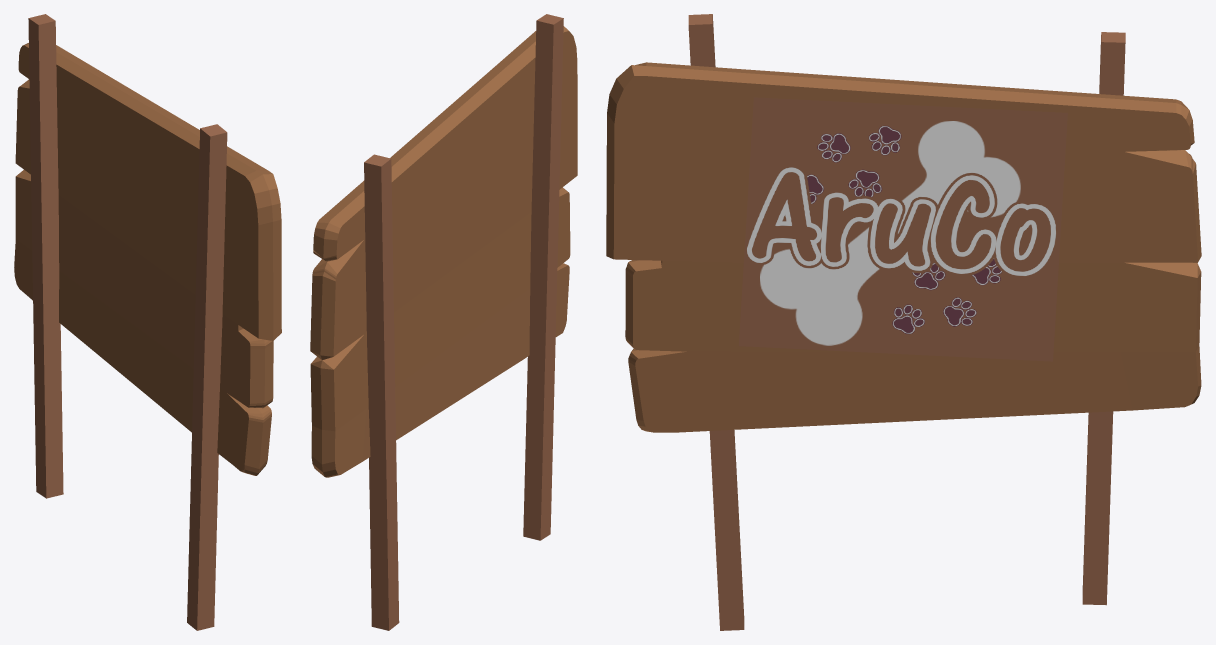
Rendered from 看板_title.fbx.
3 views of the same model, side by side, from view 1: azimuth 30°, elevation 25°; view 2: azimuth 150°, elevation 25°; view 3: azimuth 270°, elevation 25° (orthographic). The views are drawn at different scales.
Visible parts, largest first — view 1: 立方体, Cube, Cube.001; view 2: 立方体, Cube, Cube.001; view 3: 立方体, スクリーンショット 2024-05-16 224132, Cube.001, Cube.
Part boxes in pixels (x1=…): 立方体: x1=14, y1=43, x2=281, y2=475; Cube: x1=187, y1=124, x2=227, y2=630; Cube.001: x1=28, y1=14, x2=63, y2=498; 立方体: x1=310, y1=26, x2=577, y2=477; Cube: x1=523, y1=14, x2=563, y2=540; Cube.001: x1=364, y1=154, x2=399, y2=630; 立方体: x1=606, y1=62, x2=1201, y2=432; スクリーンショット 2024-05-16 224132: x1=738, y1=97, x2=1067, y2=361; Cube.001: x1=1082, y1=32, x2=1125, y2=605; Cube: x1=688, y1=14, x2=744, y2=630.
Size of the model in its own units: 95.81 by 1101 by 979.
3 materials, 1 textured.
